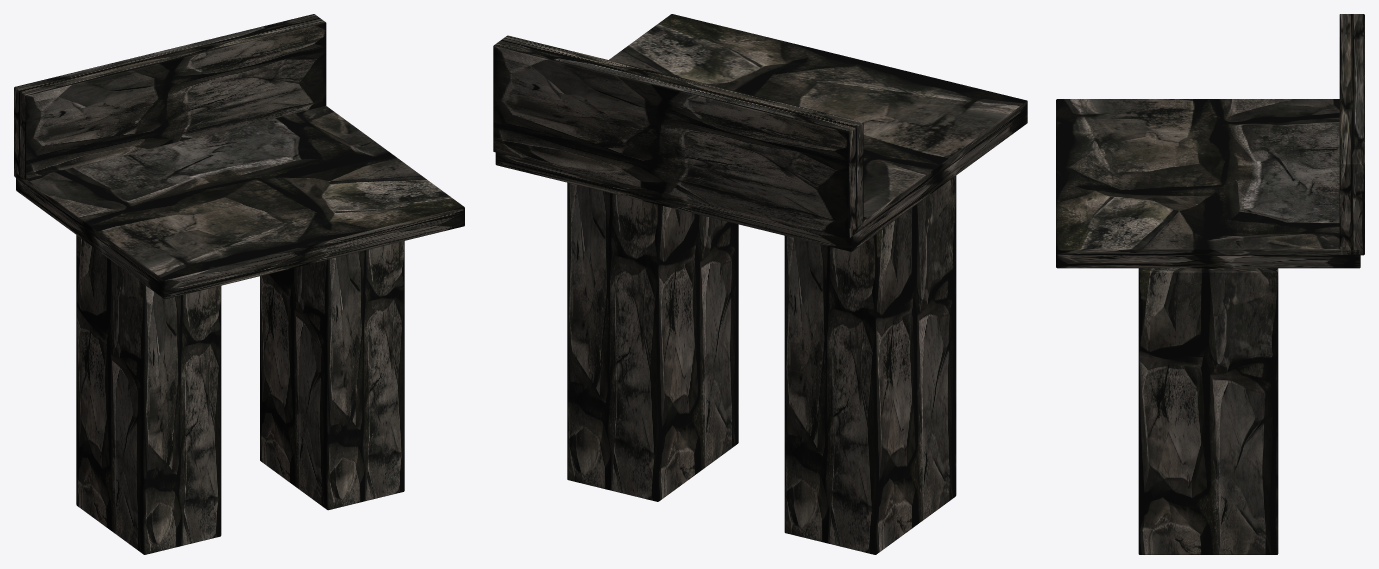
The model's file is archer_platform_high_4m_LOD2.glb.
3 views of the same model, side by side, from view 1: azimuth 30°, elevation 25°; view 2: azimuth 150°, elevation 25°; view 3: azimuth 270°, elevation 25° (orthographic). The views are drawn at different scales.
Visible parts, largest first — view 1: LOD_Deck.001, LOD_Pier.002, LOD_Pier.003, LOD_Screen.001; view 2: LOD_Pier.002, LOD_Pier.003, LOD_Screen.001, LOD_Deck.001; view 3: LOD_Deck.001, LOD_Pier.003, LOD_Screen.001.
Part boxes in pixels (x1=…): LOD_Deck.001: x1=16, y1=106, x2=464, y2=299; LOD_Pier.002: x1=76, y1=235, x2=221, y2=554; LOD_Pier.003: x1=260, y1=241, x2=404, y2=510; LOD_Screen.001: x1=14, y1=14, x2=326, y2=179; LOD_Pier.002: x1=784, y1=176, x2=956, y2=554; LOD_Pier.003: x1=567, y1=182, x2=738, y2=501; LOD_Screen.001: x1=493, y1=35, x2=863, y2=238; LOD_Deck.001: x1=495, y1=14, x2=1027, y2=251; LOD_Deck.001: x1=1056, y1=99, x2=1360, y2=268; LOD_Pier.003: x1=1138, y1=268, x2=1278, y2=554; LOD_Screen.001: x1=1339, y1=14, x2=1364, y2=255.
Size of the model in its own units: 4.2 by 5.24 by 3.65.
1 material, 1 textured.
